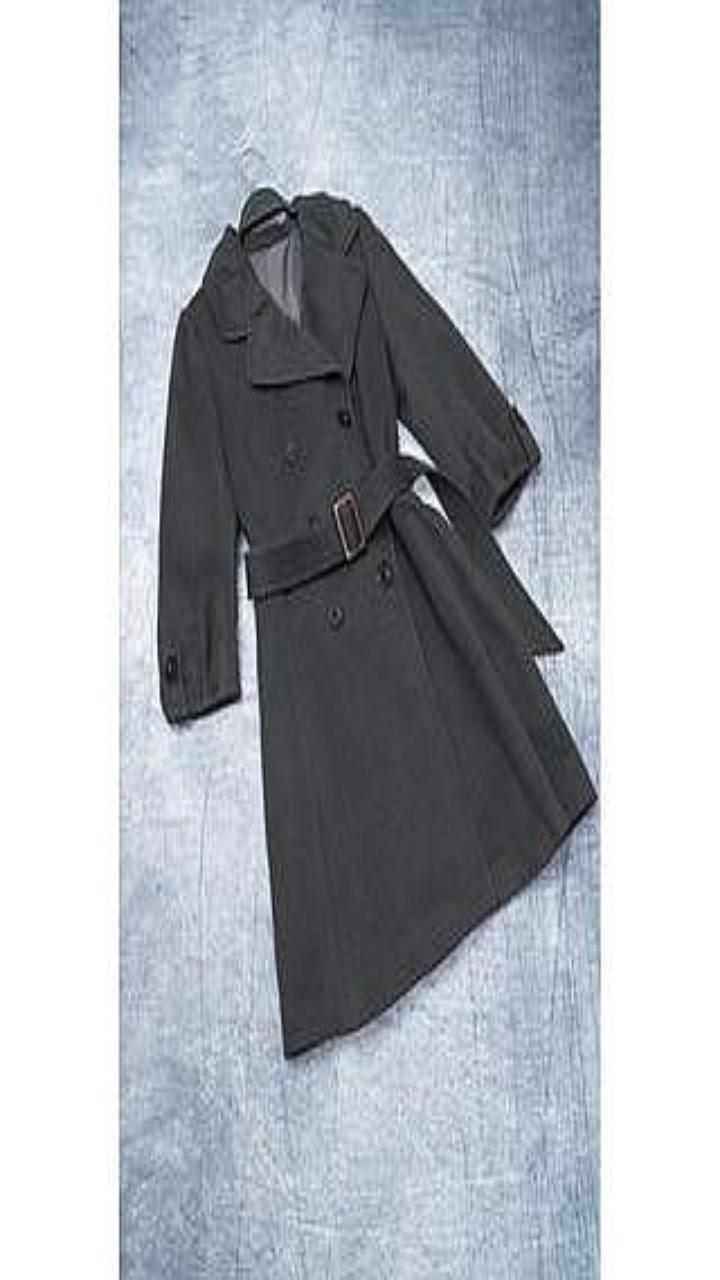Coat: (158, 192, 595, 1056)
